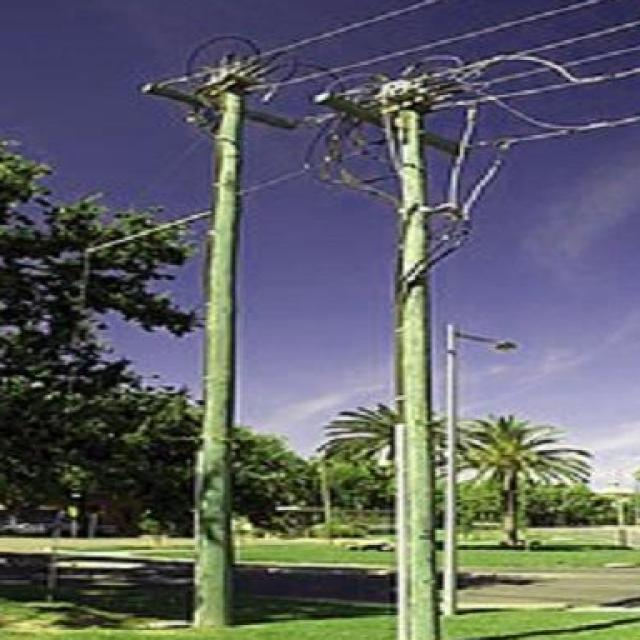non-critical vegetation: (318, 66, 473, 640), (140, 42, 285, 620)
